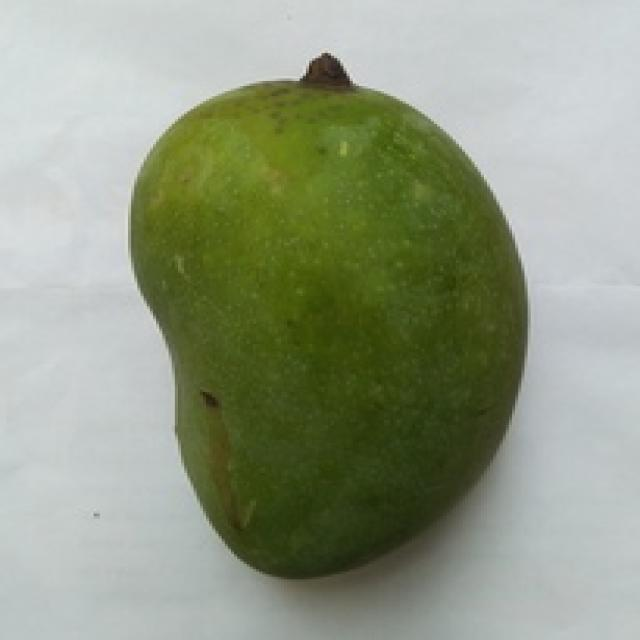Mango: (134, 53, 524, 574)
